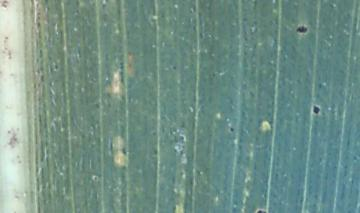tarspot: (296, 25, 308, 35), (312, 103, 320, 115), (255, 209, 267, 213), (171, 63, 177, 71), (229, 126, 234, 132)
